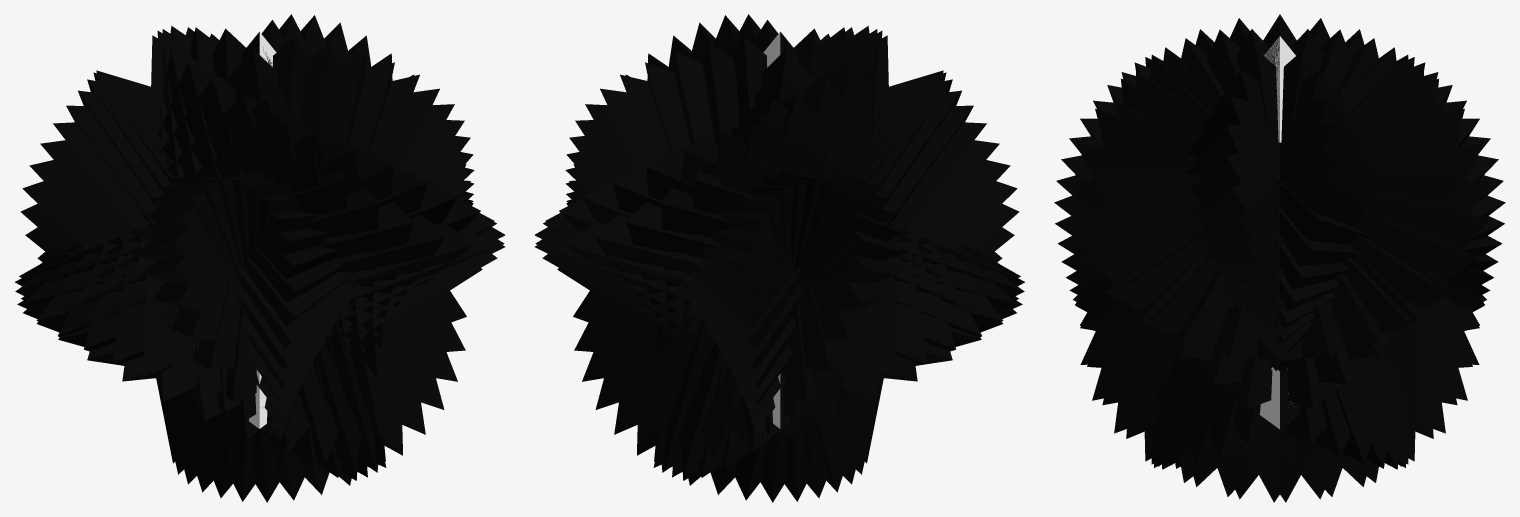
The model's file is Tetrahedron5_Create60FPS3_Spin.fbx.
3 renders of one model, left to right at view 1: azimuth 30°, elevation 25°; view 2: azimuth 150°, elevation 25°; view 3: azimuth 270°, elevation 25°, orthographic.
Visible parts, largest first — view 1: BaseSolid.060; view 2: BaseSolid.060; view 3: BaseSolid.060.
Boxes of the visible parts, <box> form: BaseSolid.060: <box>15,14,504,502</box>; BaseSolid.060: <box>535,14,1024,502</box>; BaseSolid.060: <box>1054,14,1505,502</box>.
Bounding box in the file's own units: 1.99 × 1.94 × 1.84.
1 material, 1 textured.
